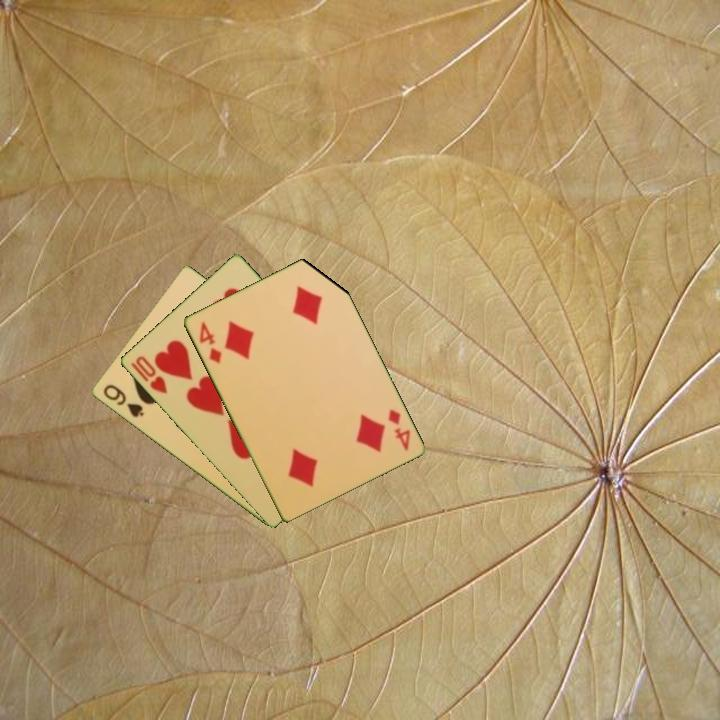10h: (127, 352, 170, 397)
4d: (384, 405, 413, 454), (195, 318, 224, 366)
9s: (99, 381, 146, 420)
